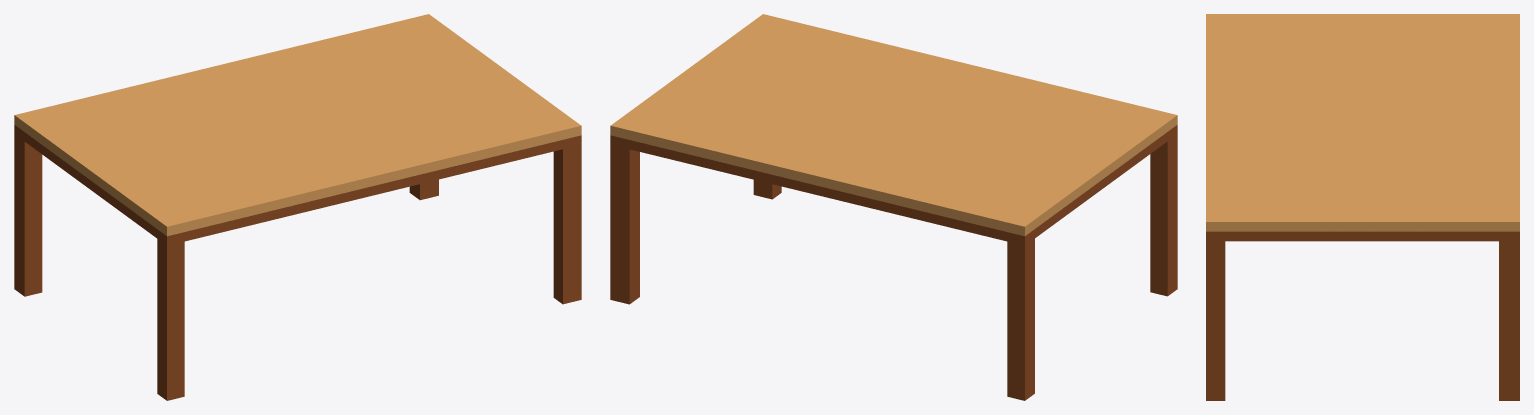
The model's file is BrownTable.fbx.
3 renders of one model, left to right at view 1: azimuth 30°, elevation 25°; view 2: azimuth 150°, elevation 25°; view 3: azimuth 270°, elevation 25°, orthographic. The views are drawn at different scales.
Visible parts, largest first — view 1: Table M top, Table M; view 2: Table M top, Table M; view 3: Table M top, Table M.
Part boxes in pixels (<box>): Table M top: <box>14,14,581,236</box>; Table M: <box>14,125,581,400</box>; Table M top: <box>610,14,1177,236</box>; Table M: <box>610,125,1177,400</box>; Table M top: <box>1206,14,1519,231</box>; Table M: <box>1206,231,1519,400</box>.
Size of the model in its own units: 491 by 313 by 197.
